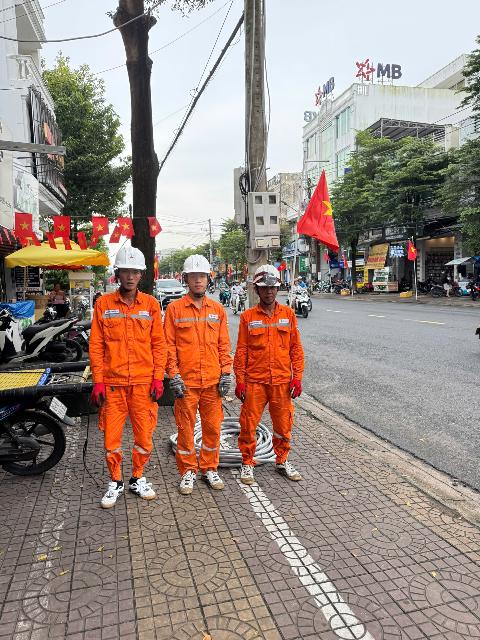gloves: (87, 382, 119, 412), (168, 369, 190, 407), (144, 377, 168, 411), (212, 369, 232, 405), (287, 373, 312, 401), (234, 381, 251, 407)
helmet: (236, 260, 293, 290), (106, 241, 153, 273), (169, 253, 222, 276)
shoes: (266, 443, 308, 483), (89, 472, 129, 510), (128, 463, 161, 503), (203, 460, 236, 494), (237, 456, 267, 491), (178, 467, 201, 502)
